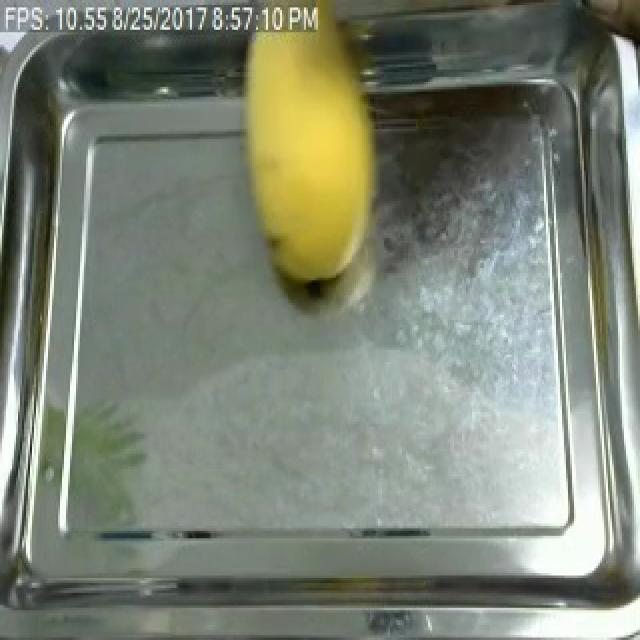fruit: (226, 22, 394, 300)
